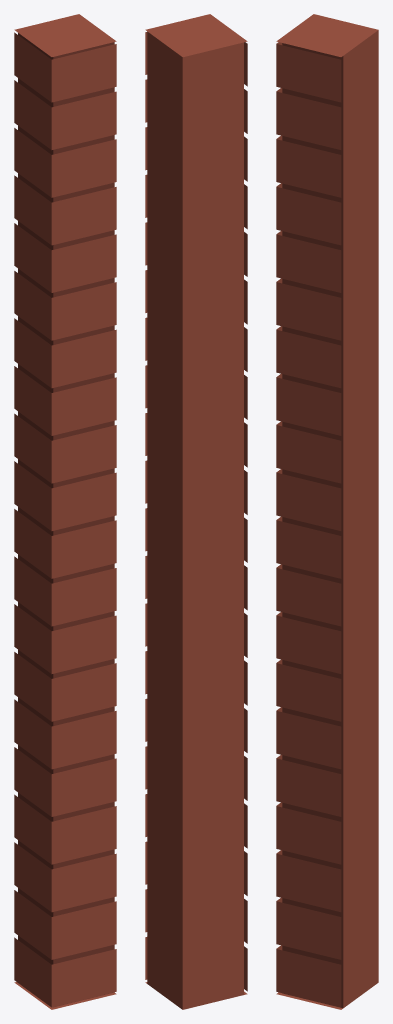
File: SC_Bld_Villa_Wall_Corner_Post.gltf
The picture shows the model from 3 angles, left to right: view 1: azimuth 30°, elevation 25°; view 2: azimuth 210°, elevation 25°; view 3: azimuth 330°, elevation 25°; orthographic projection.
Parts seen in each view (by area): view 1: SC_Bld_Villa_Wall_Corner_Post; view 2: SC_Bld_Villa_Wall_Corner_Post; view 3: SC_Bld_Villa_Wall_Corner_Post.
Part boxes in pixels (x1=…): SC_Bld_Villa_Wall_Corner_Post: x1=14, y1=14, x2=116, y2=1009; SC_Bld_Villa_Wall_Corner_Post: x1=145, y1=14, x2=247, y2=1009; SC_Bld_Villa_Wall_Corner_Post: x1=276, y1=14, x2=378, y2=1009.
Size of the model in its own units: 0.2 by 2.8 by 0.2.
1 material, 1 textured.
